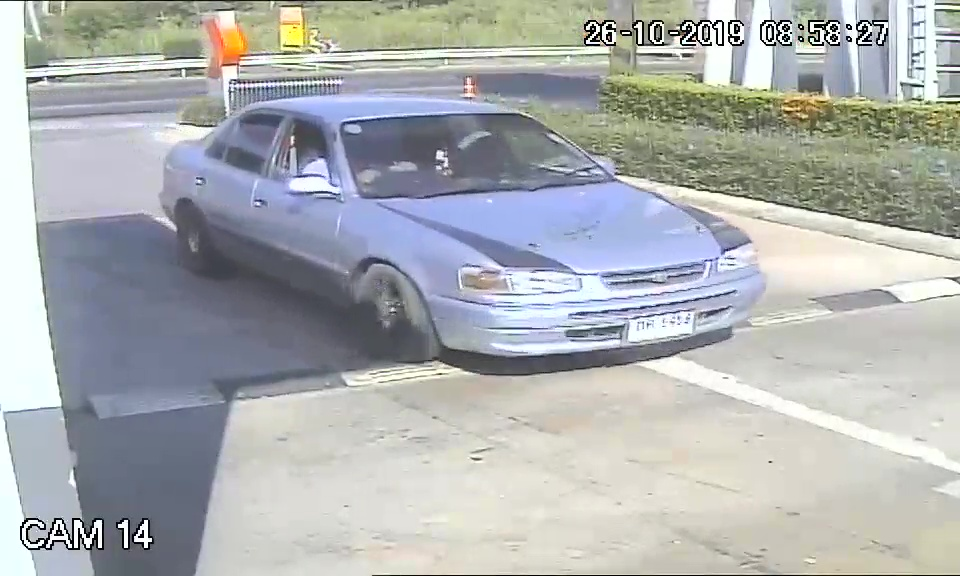sedan: (155, 92, 767, 369)
